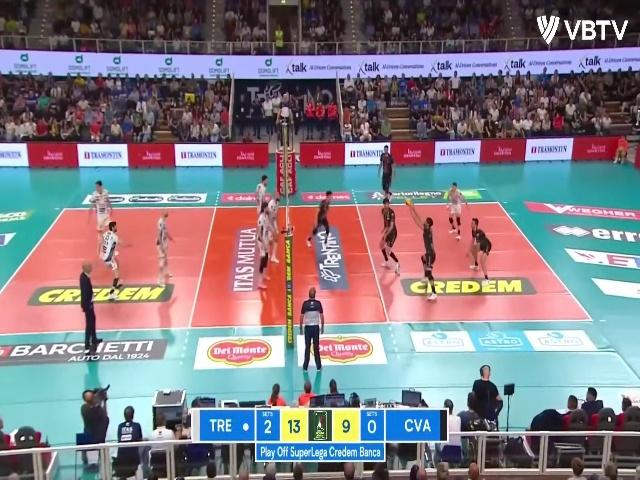volleyball court: (0, 198, 597, 331)
